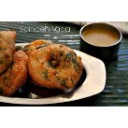vada: (32, 46, 79, 89), (1, 32, 27, 90)
